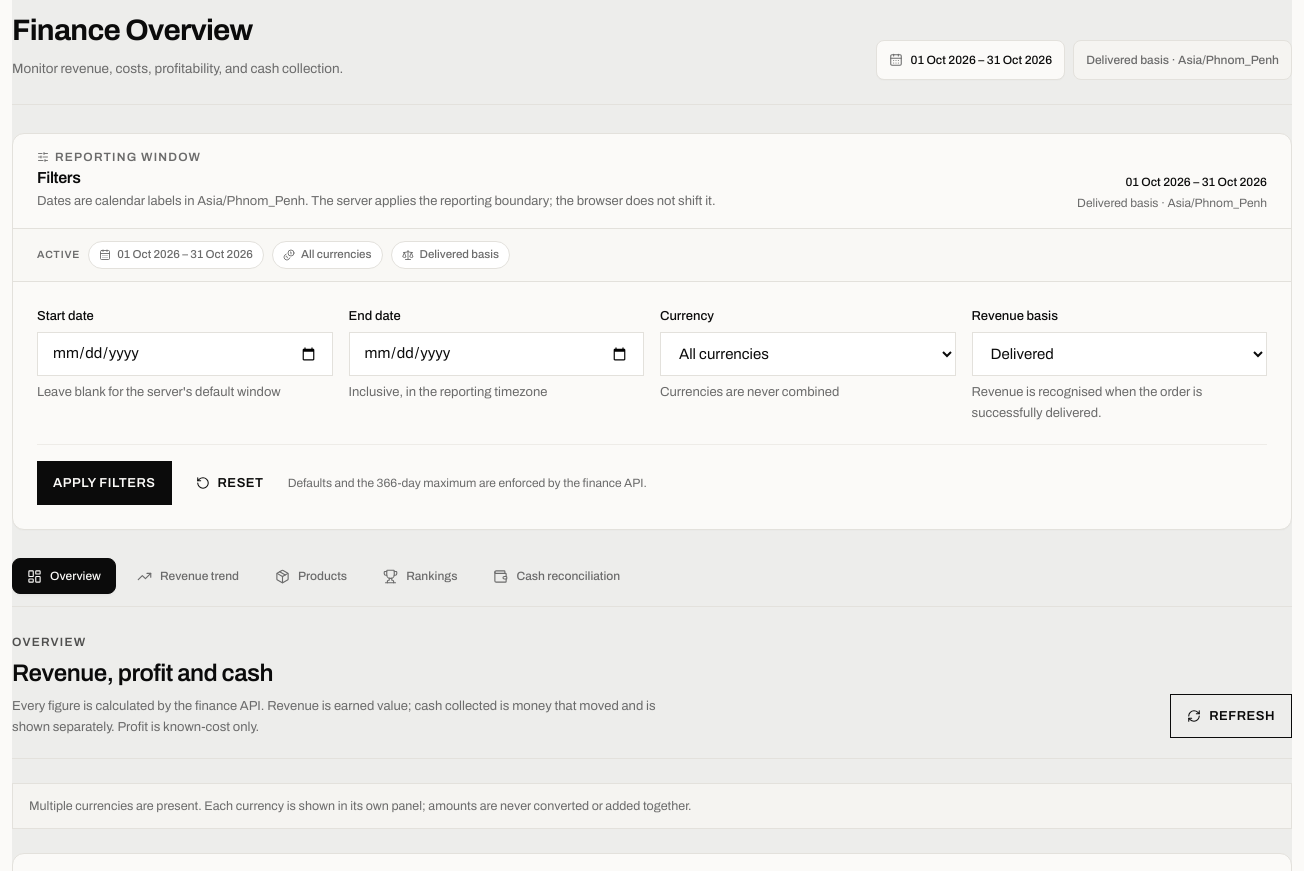
Test case: FinanceDashboard › renders cash reconciliation values from the backend response
What coordinates should you click on to do the following:
click the button "Cash reconciliation"
I would click on:
 (557, 576)
Its box is [478,558,635,594].
(page scrolled)
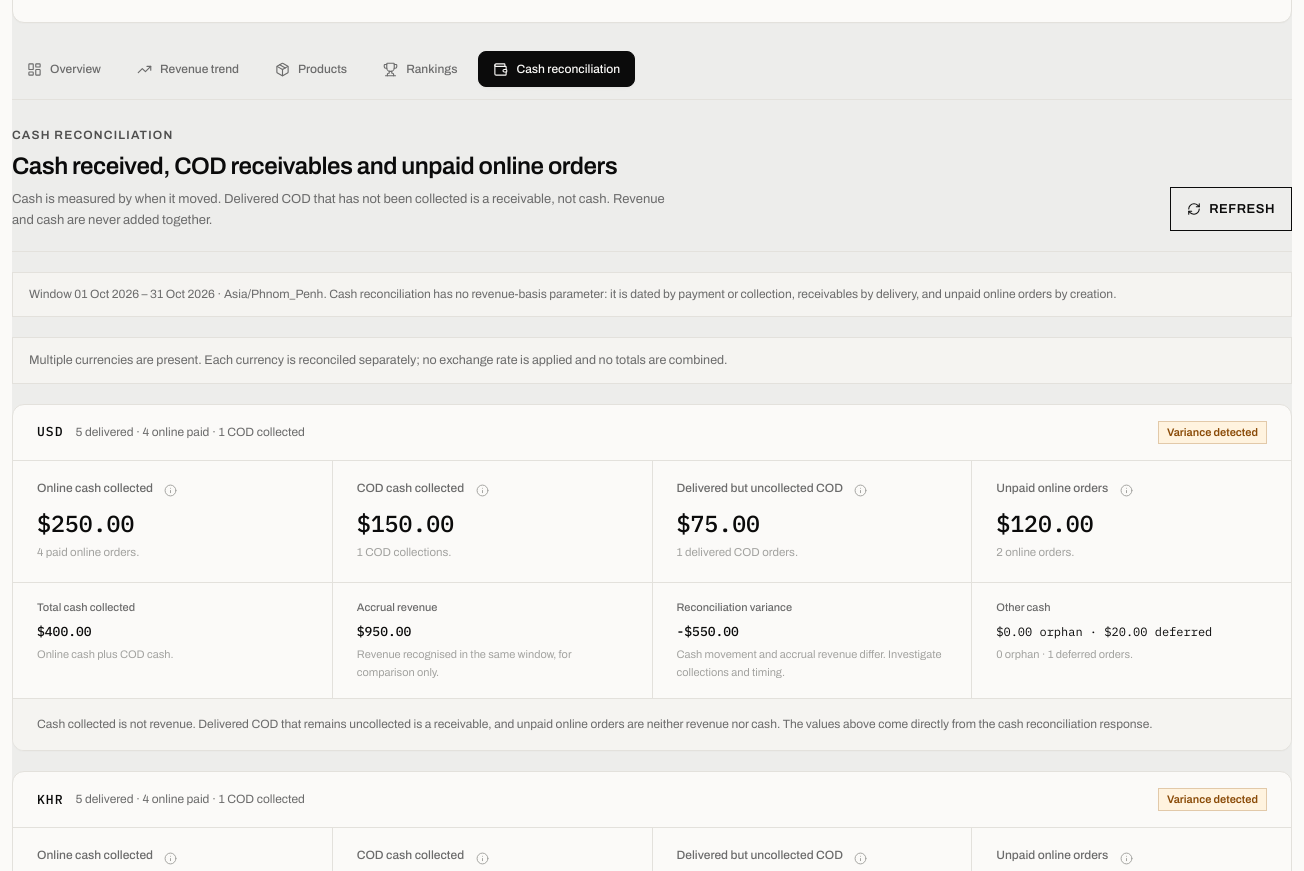
Expected: the text "Online cash collected" below "USD" is shown, [37,481,153,495]
Expected: the 1st text "COD cash collected" is shown, [357,481,464,496]
Expected: the 1st text "Delivered but uncollected COD" is shown, [676,481,843,496]
